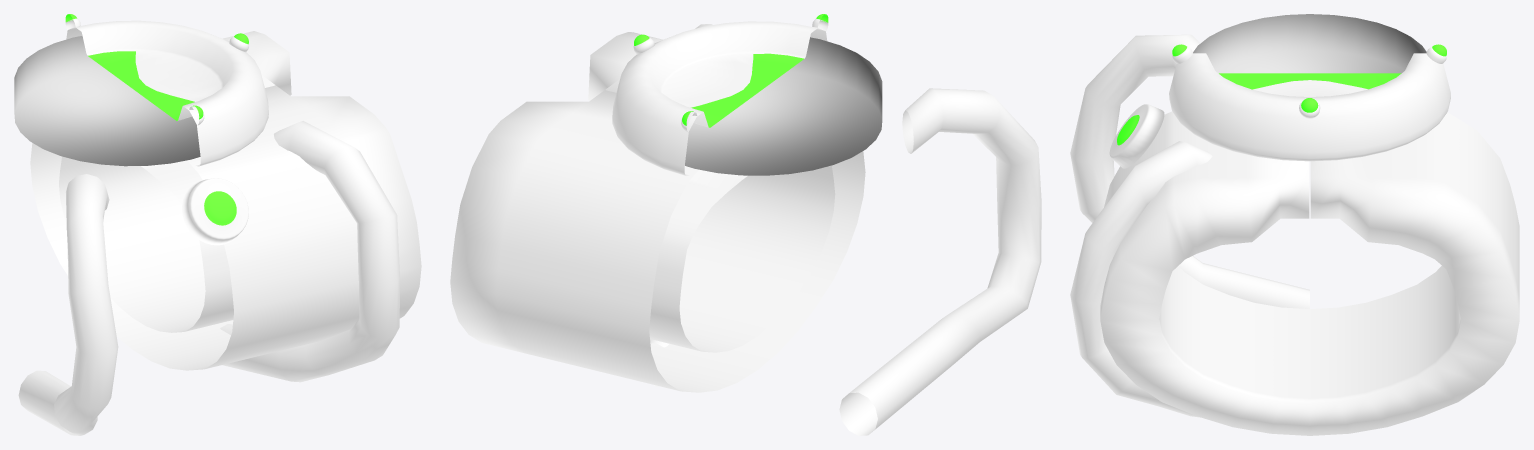
Rendered from ben10 original.glb.
The picture shows the model from 3 angles, left to right: view 1: azimuth 30°, elevation 25°; view 2: azimuth 150°, elevation 25°; view 3: azimuth 270°, elevation 25°; orthographic projection. The views are drawn at different scales.
Parts seen in each view (by area): view 1: Circle, Cylinder.003, Cylinder.001, Circle.001, Cylinder; view 2: Circle, Cylinder.003, Cylinder.001, Circle.001; view 3: Circle, Cylinder.001, Cylinder.003, Circle.001, Cylinder.
Boxes of the visible parts, x1,y1,x2,y2 form: Circle: (30,31,421,370); Cylinder.003: (18,121,399,435); Cylinder.001: (65,14,268,166); Circle.001: (14,35,200,166); Cylinder: (182,178,248,245); Circle: (450,32,865,392); Cylinder.003: (650,24,1041,435); Cylinder.001: (612,14,828,175); Circle.001: (685,37,882,175); Circle: (1100,111,1519,435); Cylinder.001: (1169,44,1450,161); Cylinder.003: (1070,34,1309,417); Circle.001: (1193,14,1426,73); Cylinder: (1109,104,1164,168).
Bounding box in the file's own units: 1.86 × 1.65 × 2.
